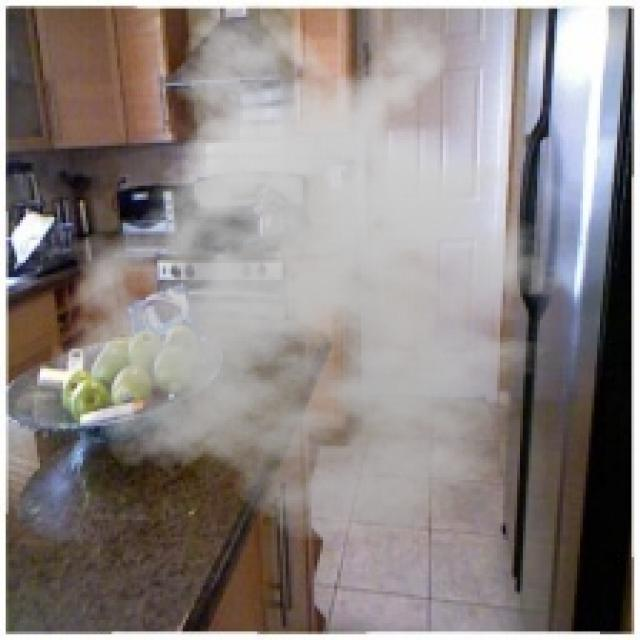Smoke: (37, 0, 600, 543)
